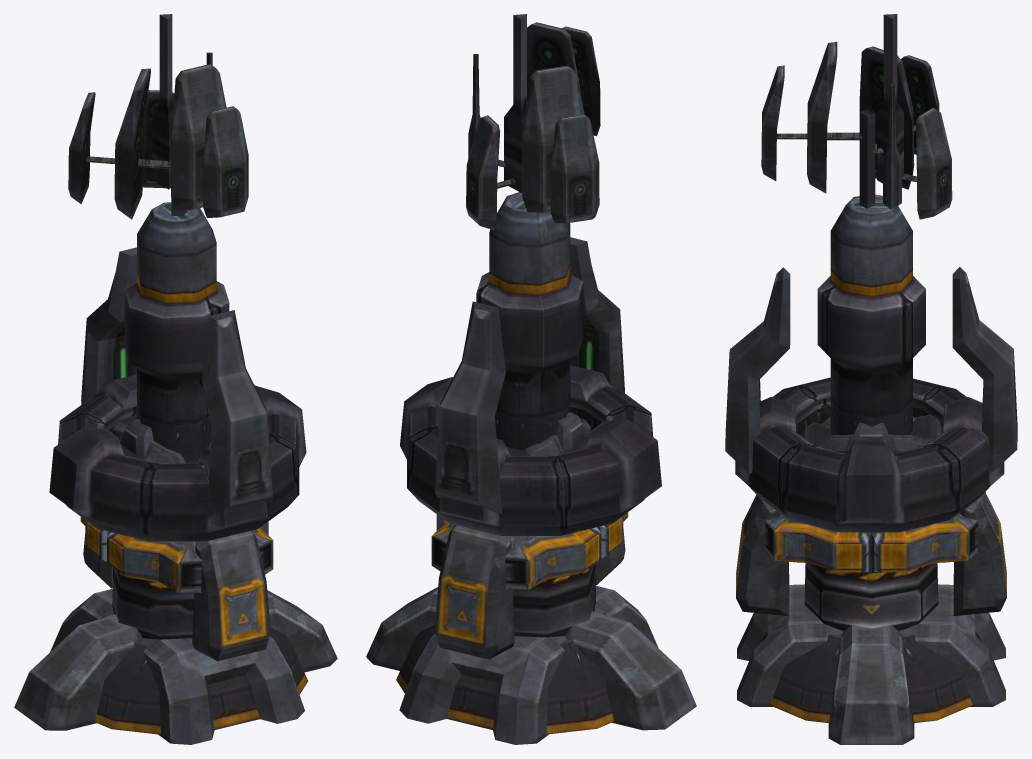
File: sensor-tower.glb
The picture shows the model from 3 angles, left to right: view 1: azimuth 30°, elevation 25°; view 2: azimuth 150°, elevation 25°; view 3: azimuth 270°, elevation 25°; orthographic projection. The views are drawn at different scales.
Visible parts, largest first — view 1: Mesh; view 2: Mesh; view 3: Mesh.
Boxes of the visible parts, x1,y1,x2,y2 form: Mesh: (14,14,337,744); Mesh: (366,14,696,744); Mesh: (725,14,1017,744).
Size of the model in its own units: 1.39 by 3 by 1.21.
Materials: 2 (2 with a texture image).
